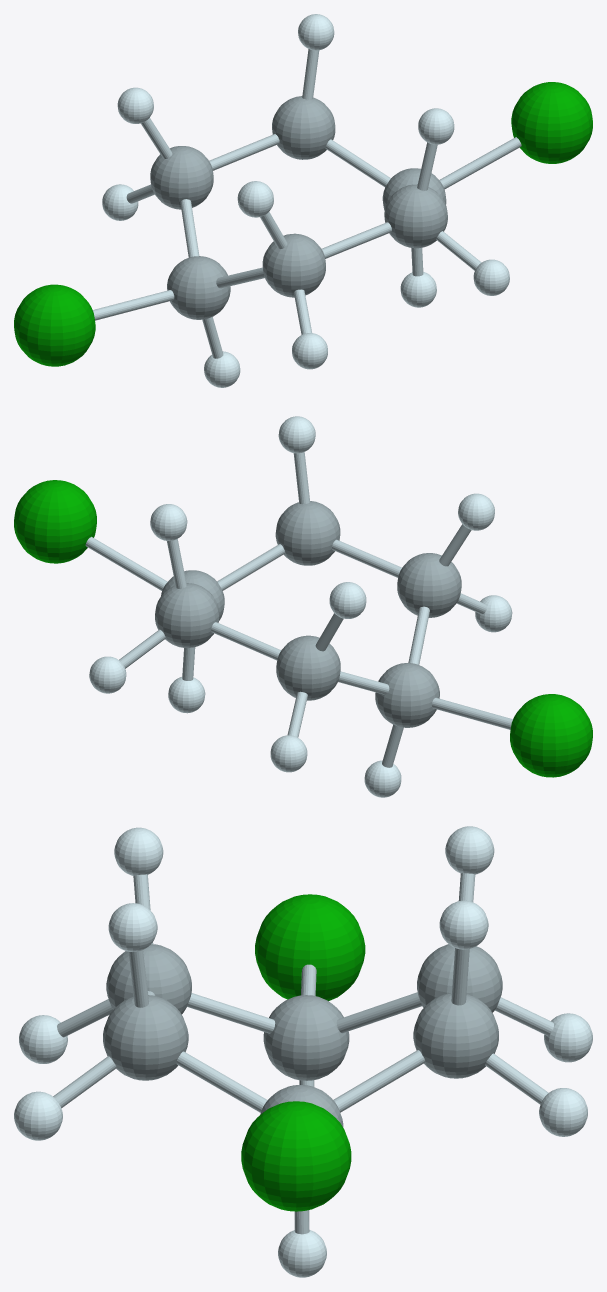
The model's file is irc_step_189.glb.
3 views of the same model, one above another, from view 1: azimuth 30°, elevation 25°; view 2: azimuth 150°, elevation 25°; view 3: azimuth 270°, elevation 25° (orthographic). The views are drawn at different scales.
Parts seen in each view (by area): view 1: Renderer Node; view 2: Renderer Node; view 3: Renderer Node.
Boxes of the visible parts, bbox=[...] form: Renderer Node: bbox=[14, 14, 592, 387]; Renderer Node: bbox=[14, 416, 592, 797]; Renderer Node: bbox=[14, 826, 592, 1277].
Bounding box in the file's own units: 7.12 × 3.51 × 4.71.
